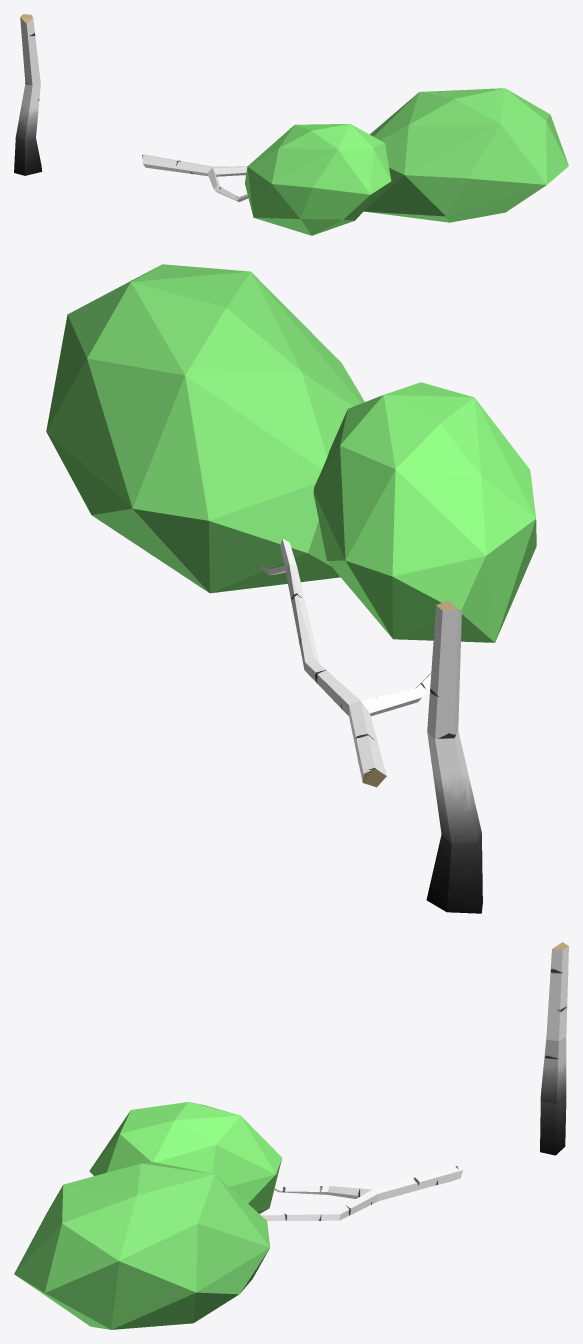
File: Birch_Tree_crk_l_BT_03.fbx
3 views of the same model, one above another, from view 1: azimuth 30°, elevation 25°; view 2: azimuth 150°, elevation 25°; view 3: azimuth 270°, elevation 25° (orthographic). The views are drawn at different scales.
Visible parts, largest first — view 1: Birch_Tree_crk_l_BT_03; view 2: Birch_Tree_crk_l_BT_03; view 3: Birch_Tree_crk_l_BT_03.
Boxes of the visible parts, bbox=[...] form: Birch_Tree_crk_l_BT_03: bbox=[14, 14, 568, 235]; Birch_Tree_crk_l_BT_03: bbox=[46, 264, 536, 913]; Birch_Tree_crk_l_BT_03: bbox=[14, 942, 568, 1329].
Bounding box in the file's own units: 1139 × 445 × 1111.
